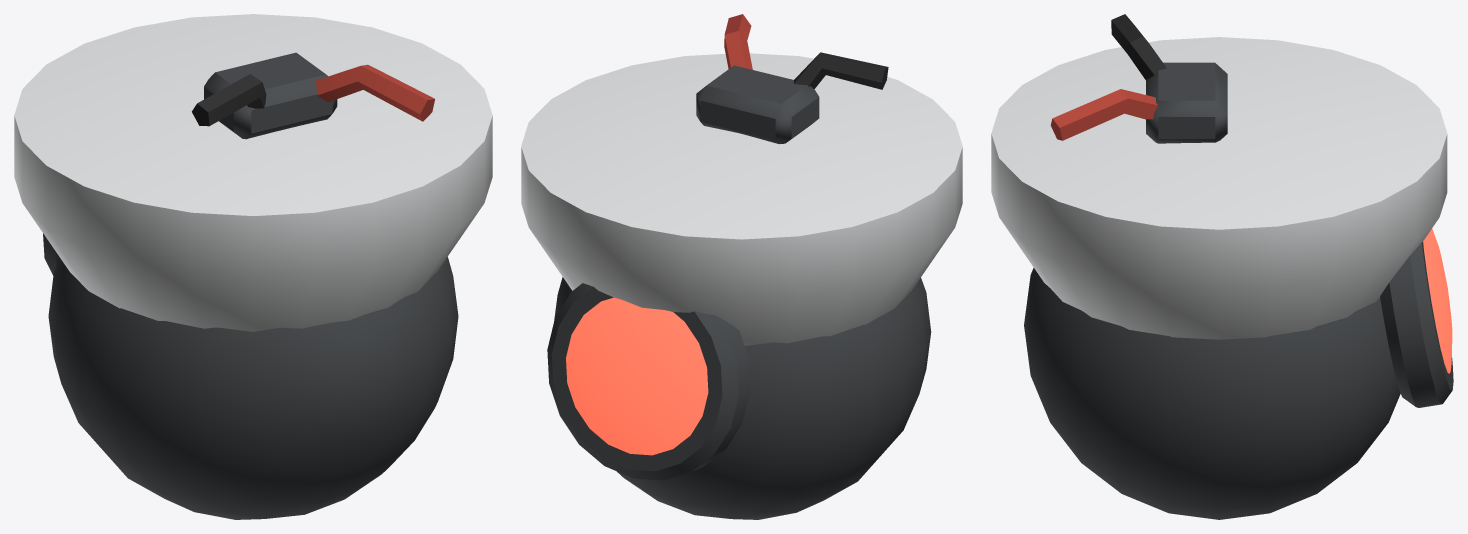
The model's file is sensor_eye.glb.
3 renders of one model, left to right at view 1: azimuth 30°, elevation 25°; view 2: azimuth 150°, elevation 25°; view 3: azimuth 270°, elevation 25°, orthographic. The views are drawn at different scales.
Visible parts, largest first — view 1: body; view 2: body; view 3: body.
Boxes of the visible parts, left/top/right/bottom form: body: left=14, top=14, right=492, bottom=519; body: left=521, top=14, right=962, bottom=519; body: left=991, top=14, right=1453, bottom=519.
Bounding box in the file's own units: 0.056 × 0.0604 × 0.0568.
